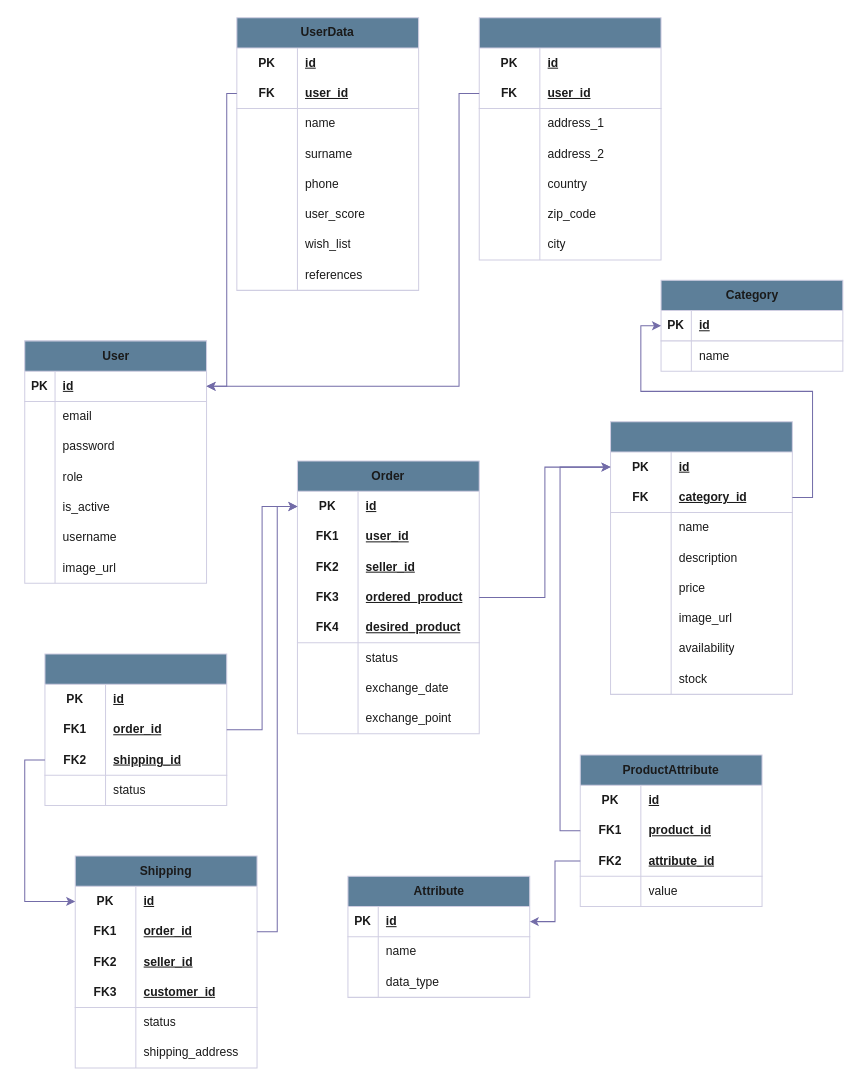
This 861x1086 diagram has some shape labels left out. Here are the shapes that lost their labels. From the top down, the box of each, then its label:
(478, 17, 661, 260): UserAddress
(610, 421, 792, 694): Product
(44, 653, 227, 805): Exchange
